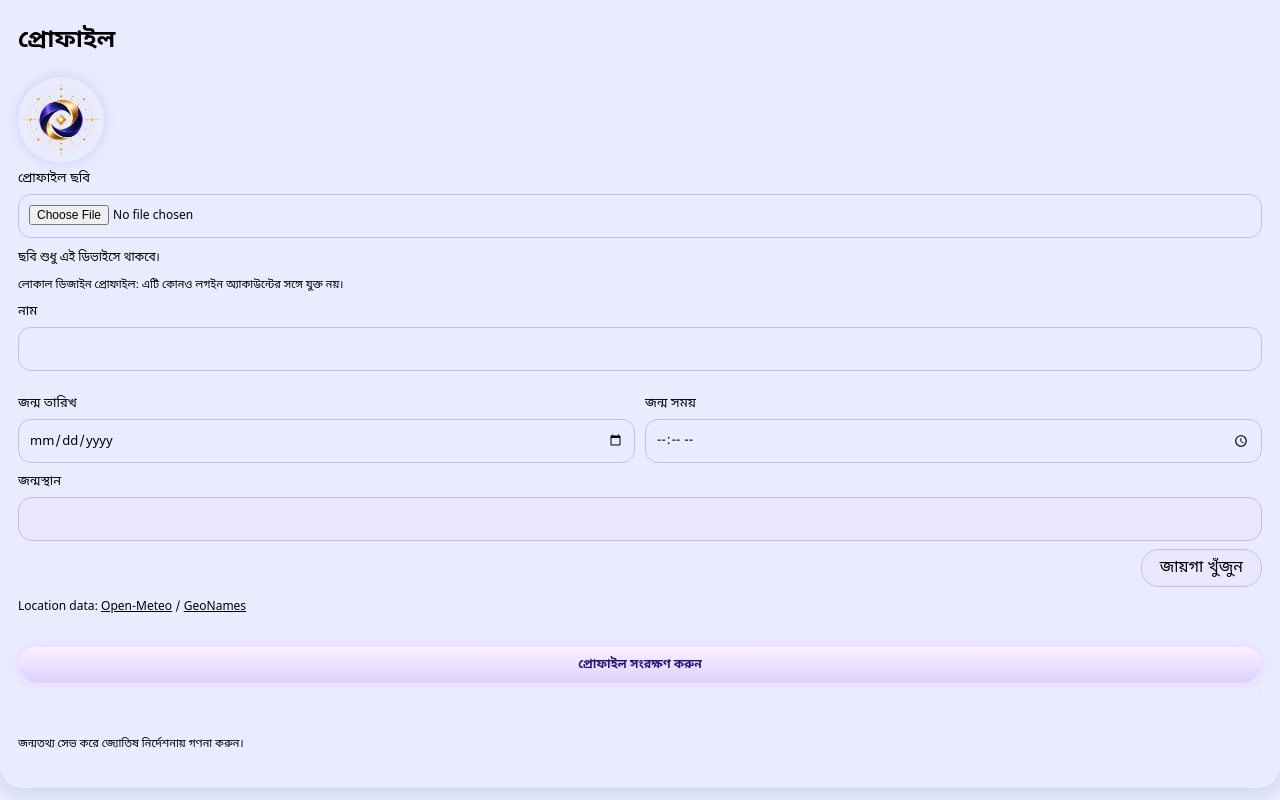
Test: rejects invalid dates, times, malformed storage and storage failures
(page scrolled)
Click the button "প্রোফাইল সংরক্ষণ করুন". click: (640,665)
box: [18,646,1262,684]
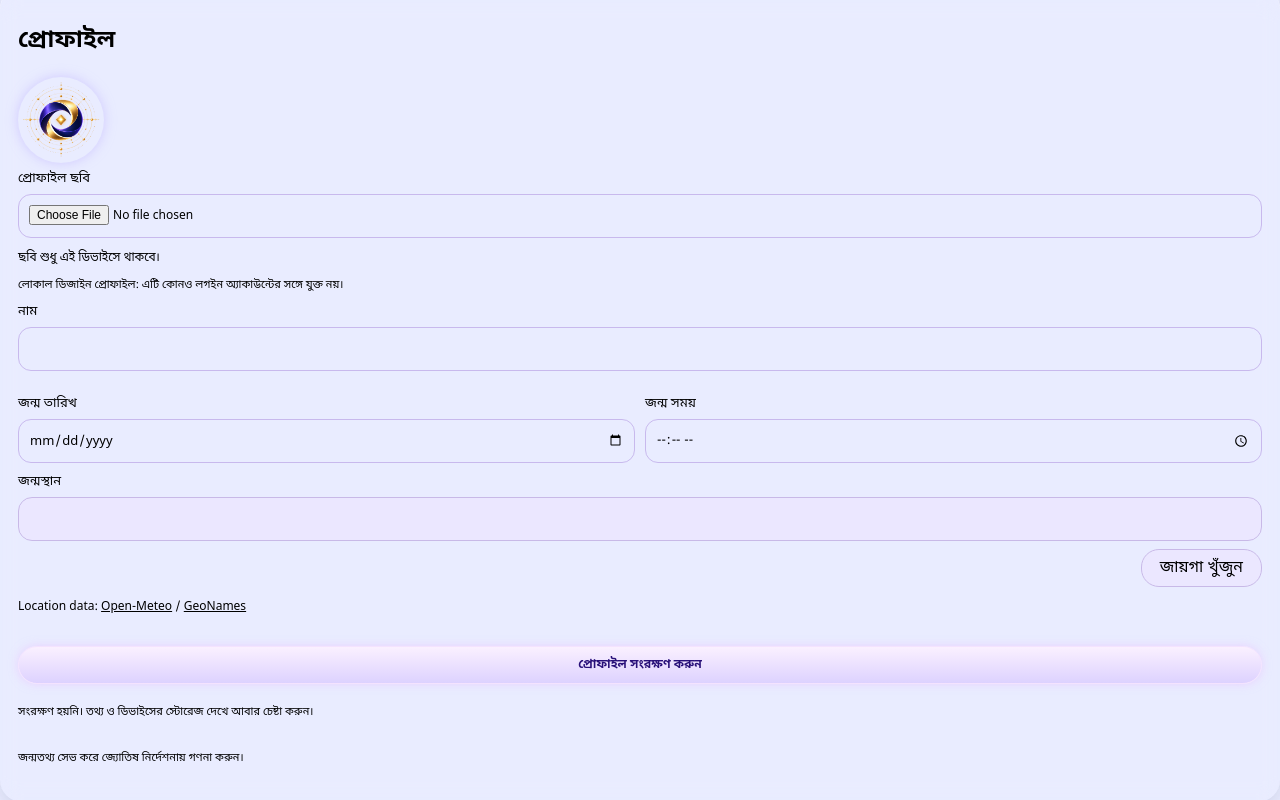
Check: the text "সংরক্ষণ হয়নি। তথ্য ও ডিভাইসের স্টোরেজ দেখে আবার চেষ্টা করুন।" is shown, box [18,705,314,719]
